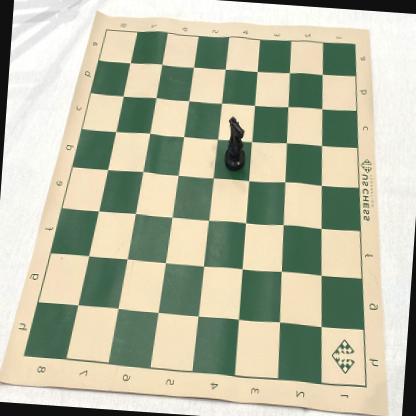black-knight: (224, 118, 248, 172)
